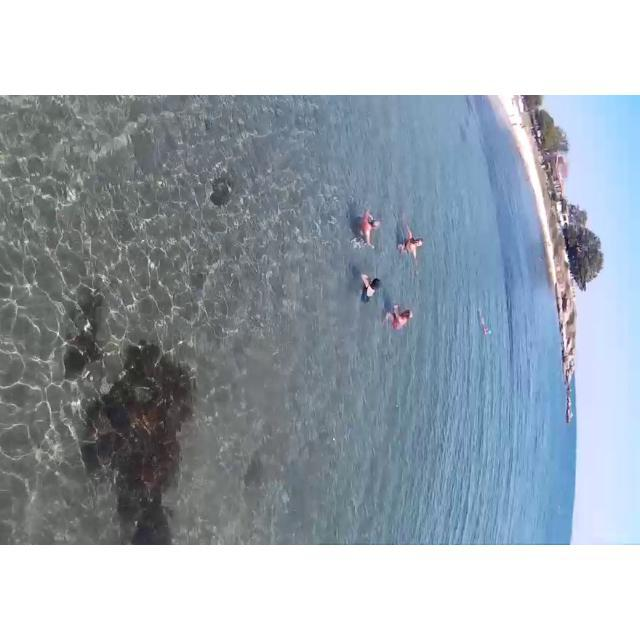human: (377, 291, 414, 338), (350, 206, 385, 254), (398, 213, 422, 266), (354, 267, 382, 306)
